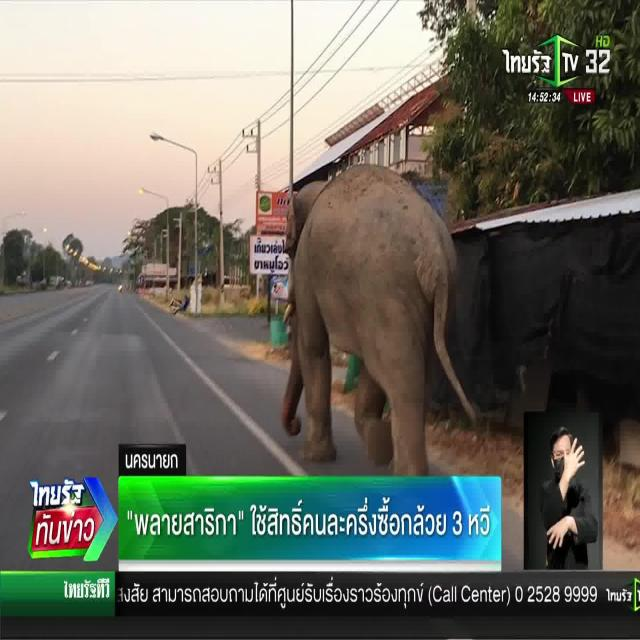Elephant: (285, 168, 460, 454)
